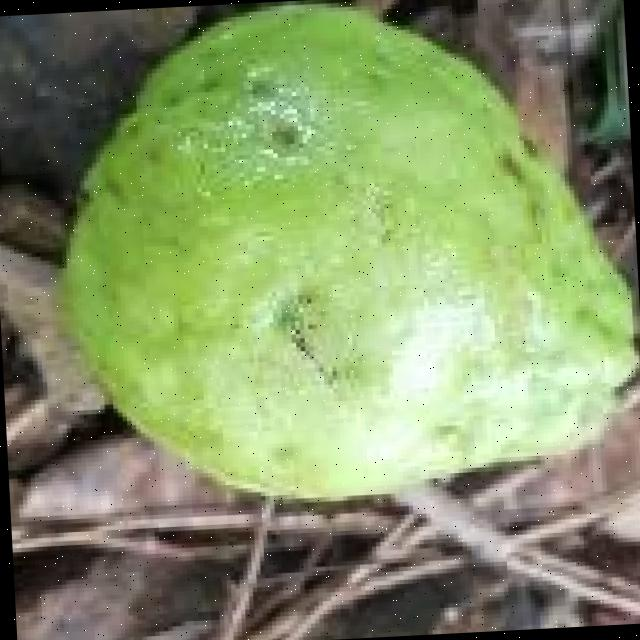Good_Guava 5-7 days: (61, 7, 636, 496)
